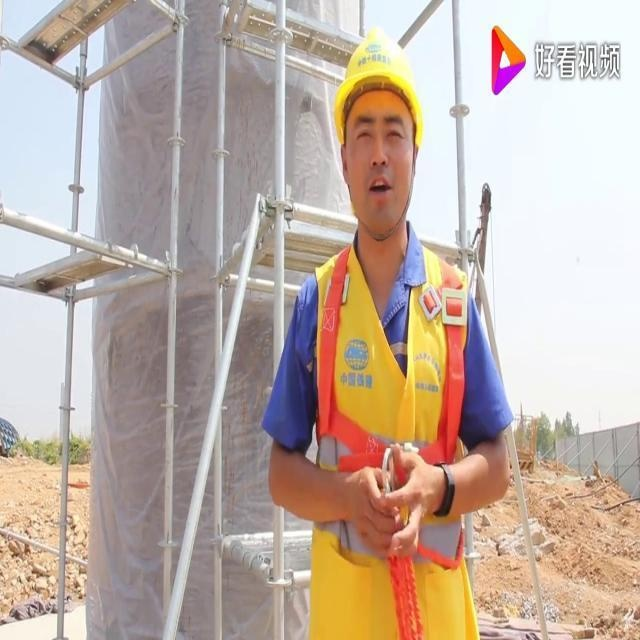Arnes_seguridad: (309, 231, 471, 580)
